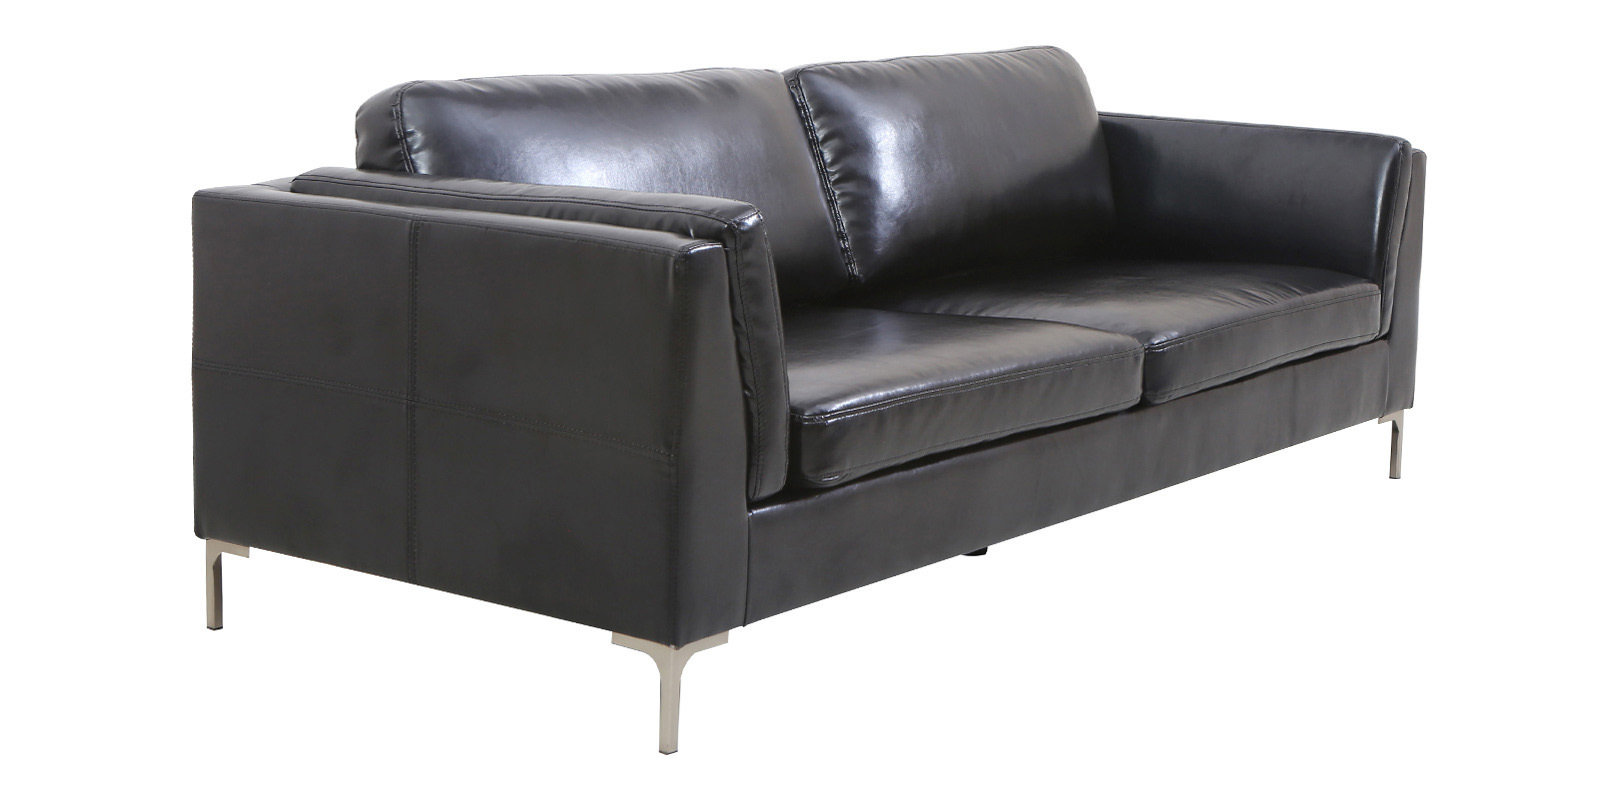Forma Three Seater Sofa in Black Colour by Zofa: (150, 24, 1452, 774)
